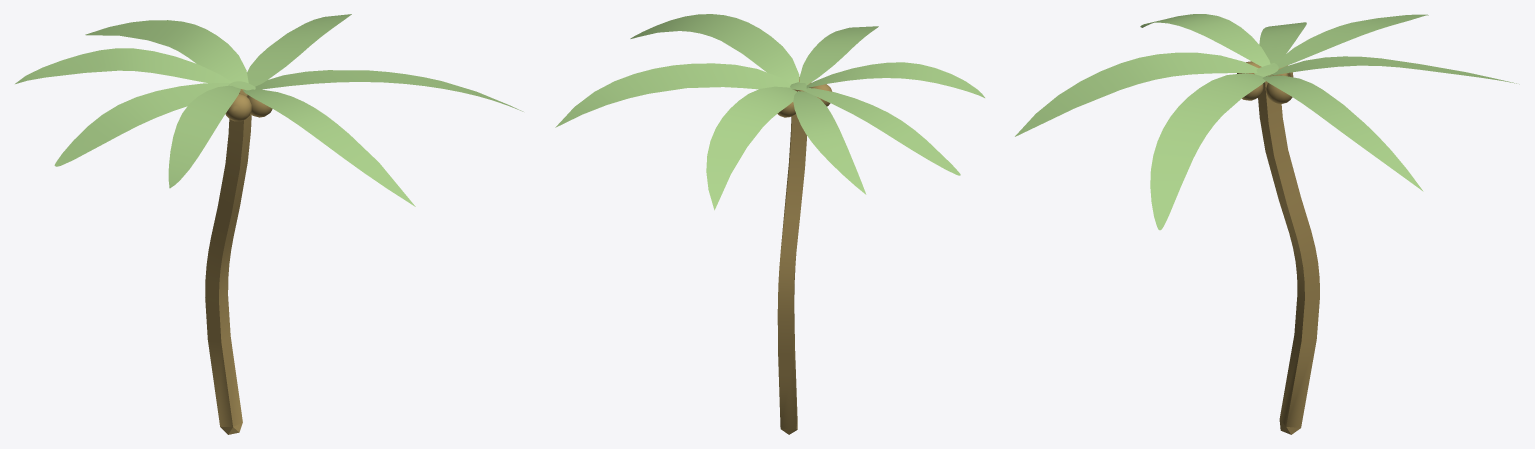
File: Palmtree.fbx
3 views of the same model, side by side, from view 1: azimuth 30°, elevation 25°; view 2: azimuth 150°, elevation 25°; view 3: azimuth 270°, elevation 25° (orthographic). The views are drawn at different scales.
Parts seen in each view (by area): view 1: palmtree1; view 2: palmtree1; view 3: palmtree1.
Part boxes in pixels (box(x1,y1,x2,y2)): palmtree1: box(15, 14, 523, 434); palmtree1: box(555, 14, 984, 434); palmtree1: box(1015, 14, 1519, 434).
Size of the model in its own units: 50590 by 43631 by 53108.
